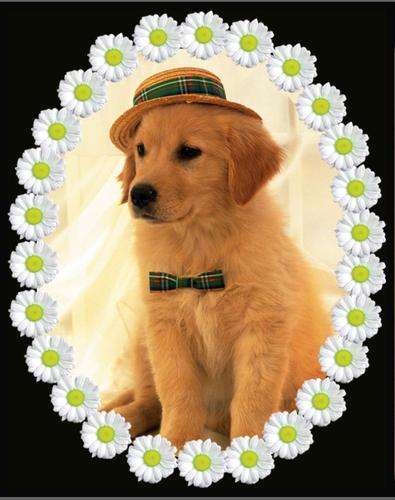dog: (101, 57, 281, 236)
